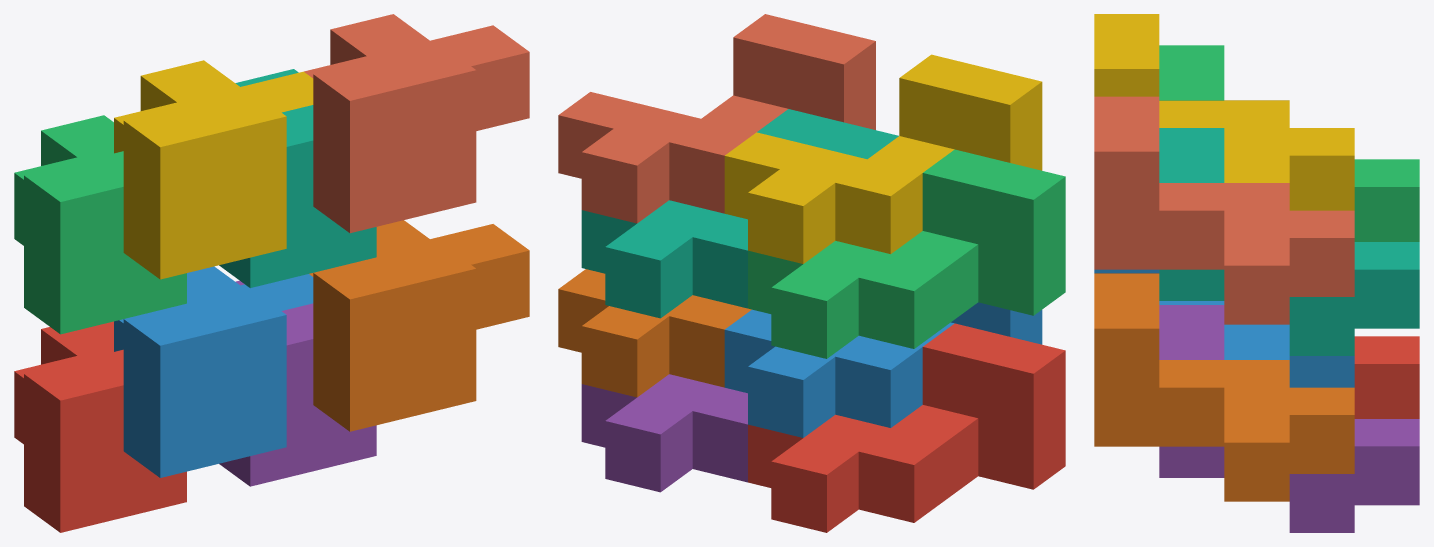
Rendered from tiling.obj.
3 views of the same model, side by side, from view 1: azimuth 30°, elevation 25°; view 2: azimuth 150°, elevation 25°; view 3: azimuth 270°, elevation 25° (orthographic). The views are drawn at different scales.
Visible parts, largest first — view 1: copy_1_domain_8, copy_1_domain_6, copy_1_domain_4, copy_1_domain_2, copy_1_domain_3, copy_1_domain_1, copy_1_domain_7, copy_1_domain_5; view 2: copy_1_domain_1, copy_1_domain_3, copy_1_domain_4, copy_1_domain_8, copy_1_domain_7, copy_1_domain_2, copy_1_domain_5, copy_1_domain_6; view 3: copy_1_domain_6, copy_1_domain_8, copy_1_domain_4, copy_1_domain_5, copy_1_domain_7, copy_1_domain_3, copy_1_domain_1, copy_1_domain_2.
Part boxes in pixels (<box>): copy_1_domain_8: <box>304,14,529,233</box>; copy_1_domain_6: <box>309,220,529,431</box>; copy_1_domain_4: <box>114,60,313,279</box>; copy_1_domain_2: <box>114,266,313,477</box>; copy_1_domain_3: <box>14,115,186,334</box>; copy_1_domain_1: <box>14,321,186,532</box>; copy_1_domain_7: <box>219,69,376,287</box>; copy_1_domain_5: <box>219,280,376,486</box>; copy_1_domain_1: <box>748,323,1065,532</box>; copy_1_domain_3: <box>748,149,1065,358</box>; copy_1_domain_4: <box>724,54,1042,263</box>; copy_1_domain_8: <box>558,14,875,223</box>; copy_1_domain_7: <box>581,109,898,318</box>; copy_1_domain_2: <box>724,302,1042,437</box>; copy_1_domain_5: <box>581,374,747,492</box>; copy_1_domain_6: <box>558,269,751,397</box>; copy_1_domain_6: <box>1094,273,1354,501</box>; copy_1_domain_8: <box>1094,96,1354,324</box>; copy_1_domain_4: <box>1094,14,1354,210</box>; copy_1_domain_5: <box>1159,305,1419,532</box>; copy_1_domain_7: <box>1159,128,1419,355</box>; copy_1_domain_3: <box>1159,45,1419,241</box>; copy_1_domain_1: <box>1354,336,1419,418</box>; copy_1_domain_2: <box>1094,269,1354,387</box>.
Bounding box in the file's own units: 8 × 6 × 5.
